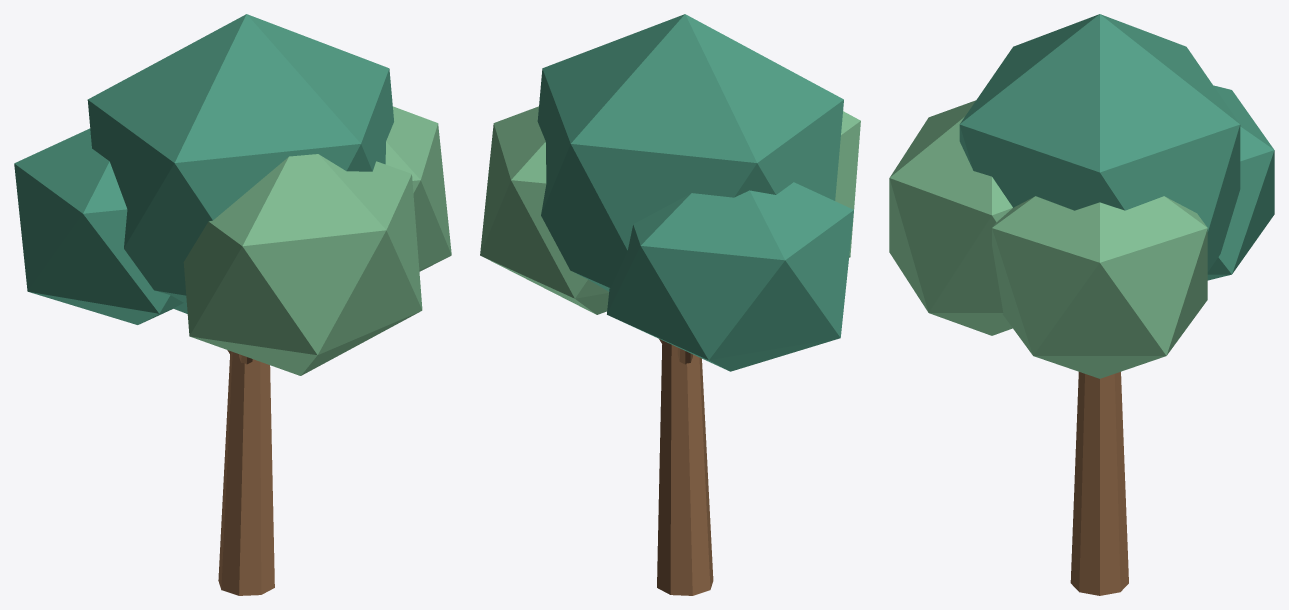
Rendered from Tree.fbx.
3 renders of one model, left to right at view 1: azimuth 30°, elevation 25°; view 2: azimuth 150°, elevation 25°; view 3: azimuth 270°, elevation 25°, orthographic.
Visible parts, largest first — view 1: Tree_RenderMesh; view 2: Tree_RenderMesh; view 3: Tree_RenderMesh.
Boxes of the visible parts, x1,y1,x2,y2 form: Tree_RenderMesh: (14,14,451,595); Tree_RenderMesh: (480,14,860,595); Tree_RenderMesh: (889,14,1274,595).
Bounding box in the file's own units: 3.44 × 4.95 × 3.03.
